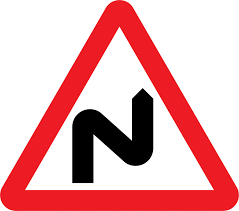Double_bend_right: (2, 1, 238, 210)
